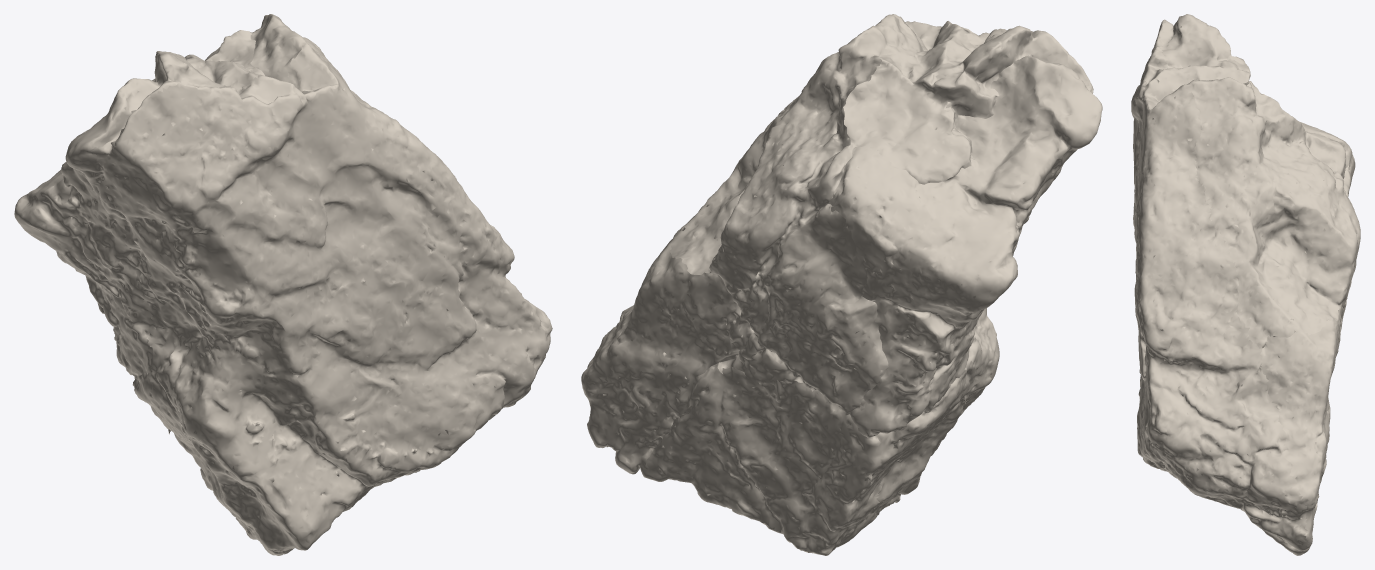
Rendered from rock_17_original.glb.
3 views of the same model, side by side, from view 1: azimuth 30°, elevation 25°; view 2: azimuth 150°, elevation 25°; view 3: azimuth 270°, elevation 25° (orthographic). The views are drawn at different scales.
Visible parts, largest first — view 1: world; view 2: world; view 3: world.
Boxes of the visible parts, x1,y1,x2,y2 form: world: [14, 14, 552, 555]; world: [581, 14, 1102, 555]; world: [1131, 14, 1360, 555].
Size of the model in its own units: 1.54 by 1.69 by 0.7892.
